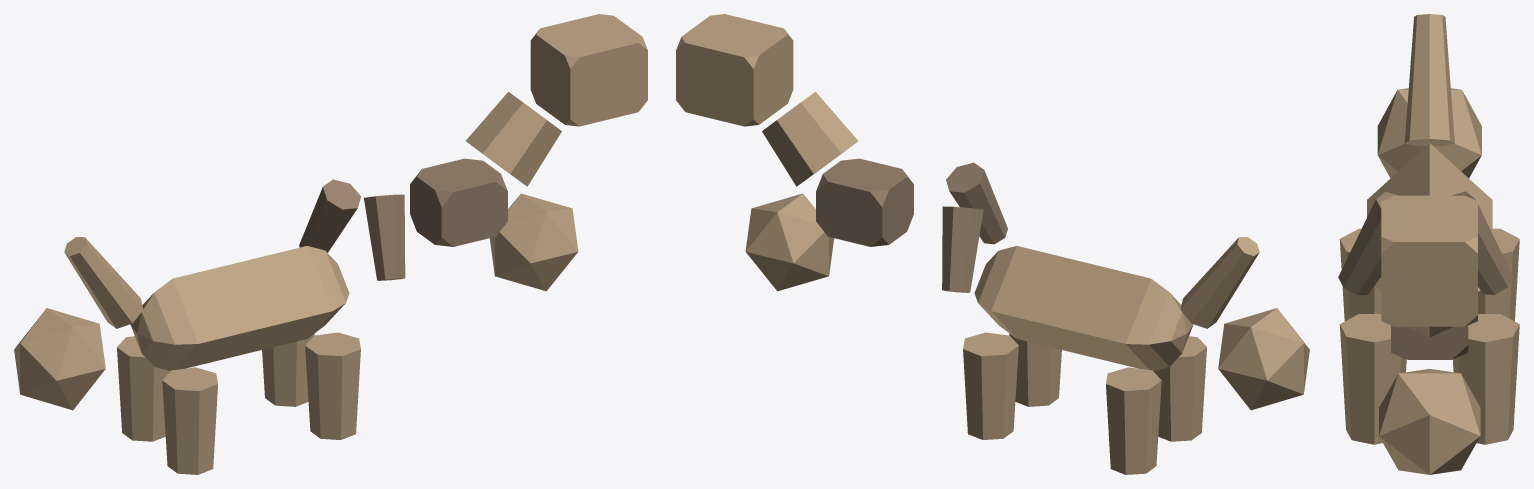
3 renders of one model, left to right at view 1: azimuth 30°, elevation 25°; view 2: azimuth 150°, elevation 25°; view 3: azimuth 270°, elevation 25°, orthographic. The views are drawn at different scales.
Visible parts, largest first — view 1: part0, part4, part5, part1, part2, part10, part12, part3, part11, part8, part7, part9 (+1 smaller); view 2: part0, part4, part5, part1, part2, part9, part11, part3, part12, part8, part6, part10 (+1 smaller); view 3: part4, part2, part9, part10, part8, part1, part0, part7, part5, part6, part11, part12 (+1 smaller).
Boxes of the visible parts, x1,y1,x2,y2 form: part0: [130, 246, 349, 370]; part4: [530, 14, 647, 126]; part5: [410, 158, 507, 246]; part1: [14, 308, 105, 410]; part2: [489, 193, 578, 291]; part10: [305, 332, 360, 439]; part12: [162, 367, 217, 474]; part3: [466, 92, 561, 186]; part11: [117, 336, 170, 441]; part8: [64, 237, 143, 328]; part7: [364, 194, 405, 280]; part9: [262, 333, 314, 406]; part0: [974, 246, 1193, 370]; part4: [676, 14, 793, 126]; part5: [816, 158, 913, 246]; part1: [1218, 308, 1309, 410]; part2: [745, 193, 834, 291]; part9: [963, 332, 1018, 439]; part11: [1106, 367, 1161, 474]; part3: [762, 92, 857, 186]; part12: [1153, 336, 1206, 441]; part8: [1180, 237, 1259, 328]; part6: [942, 206, 983, 292]; part10: [1009, 333, 1061, 406]; part4: [1381, 195, 1477, 326]; part2: [1379, 368, 1480, 474]; part9: [1452, 314, 1519, 444]; part10: [1339, 314, 1406, 444]; part8: [1404, 14, 1454, 146]; part1: [1377, 88, 1481, 178]; part0: [1367, 143, 1492, 292]; part7: [1338, 192, 1398, 295]; part5: [1391, 325, 1468, 359]; part6: [1452, 191, 1513, 294]; part11: [1478, 228, 1519, 321]; part12: [1339, 228, 1381, 320].
Size of the model in its own units: 5.33 by 2.6 by 1.13.
